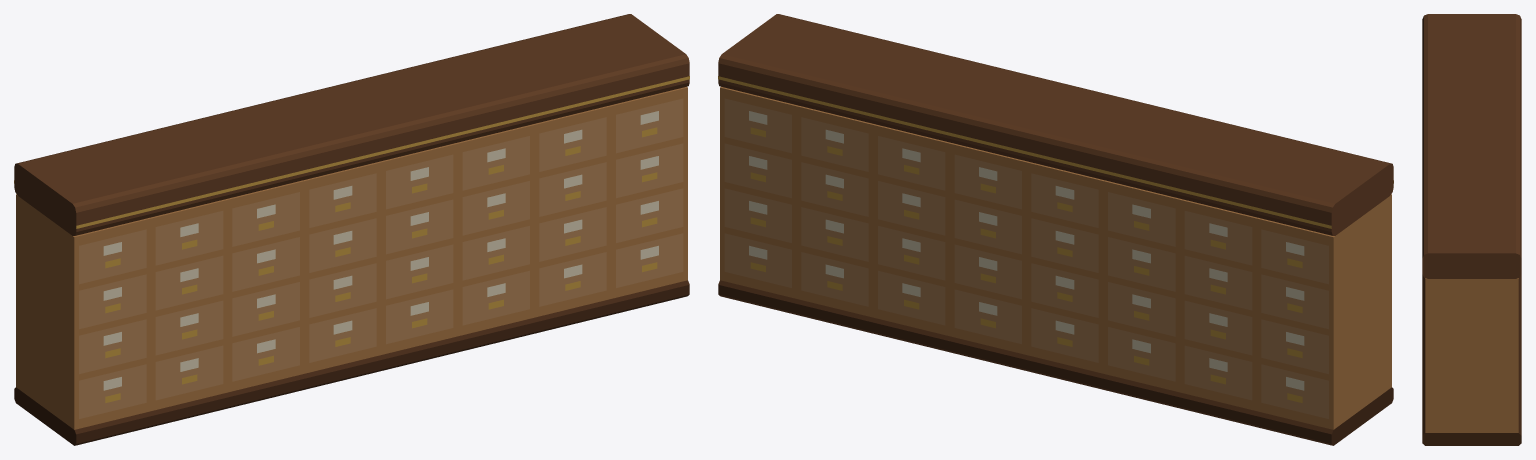
Rendered from library-border.glb.
3 renders of one model, left to right at view 1: azimuth 30°, elevation 25°; view 2: azimuth 150°, elevation 25°; view 3: azimuth 270°, elevation 25°, orthographic. The views are drawn at different scales.
Visible parts, largest first — view 1: library-border; view 2: library-border; view 3: library-border.
Boxes of the visible parts, <box> form: library-border: <box>14,14,689,445</box>; library-border: <box>718,14,1393,445</box>; library-border: <box>1422,14,1521,445</box>.
Size of the model in its own units: 4 by 1.5 by 0.702.
